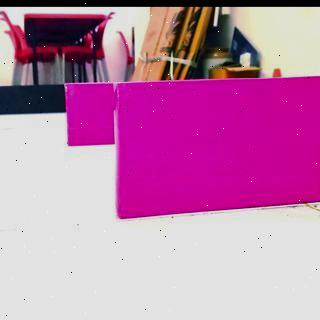xparking: (117, 79, 320, 215), (65, 82, 112, 145)
